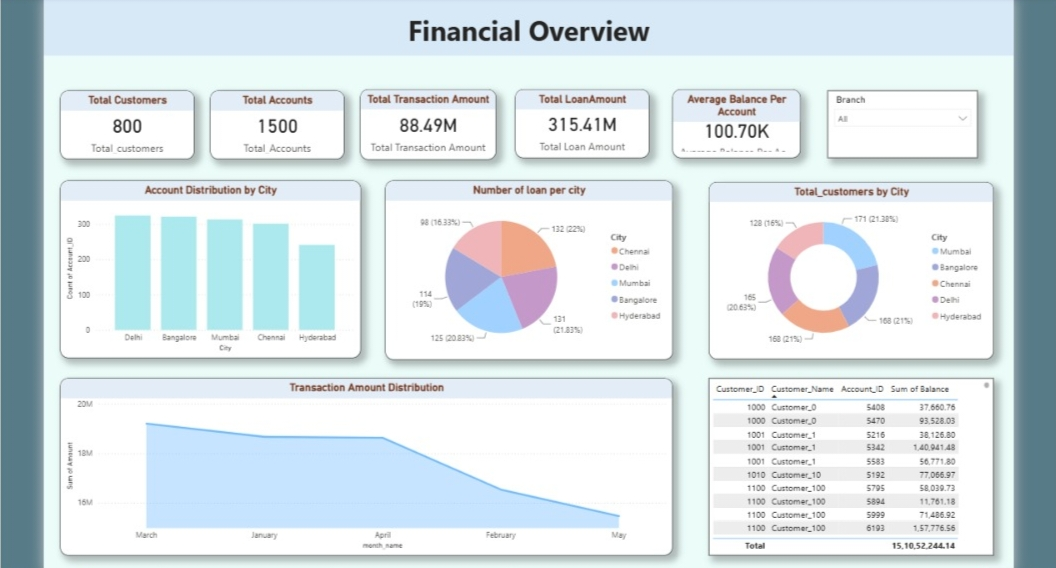

What the dashboard file says about the page in this screenshot:
{"tool":"powerbi","page":{"name":"Financial overview","canvas":[1517,900],"ordinal":0},"visuals":[{"type":"card","title":"Total Customers","fields":{"Values":["Basic Measure.Total_customers"]},"box":[25,147.5,210,107.5],"z":0},{"type":"card","title":"Total Transaction Amount","fields":{"Values":["Basic Measure.Total Transaction Amount"]},"box":[495,145,212.5,110],"z":1000},{"type":"card","title":"Average Balance Per Account","fields":{"Values":["Balance & Account Measure.Avarage Balance Per Account"]},"box":[982.5,145,200,107.5],"z":2000},{"type":"card","title":"Total Accounts","fields":{"Values":["Basic Measure.Total_Accounts"]},"box":[260,147.5,210,107.5],"z":3000},{"type":"card","title":"Total LoanAmount","fields":{"Values":["Loan Analysis.Total Loan Amount"]},"box":[737.5,145,210,107.5],"z":4000},{"type":"clusteredColumnChart","title":" Account Distribution by City","fields":{"Category":["Branches.City"],"Y":["CountNonNull(Accounts.Account_ID)"]},"box":[25,287.5,470,277.5],"z":5000},{"type":"pieChart","title":"Number of loan per city","fields":{"Category":["Branches.City"],"Y":["CountNonNull(Loans.Loan_ID)"]},"box":[532.5,287.5,450,280],"z":6000},{"type":"stackedAreaChart","title":"Transaction Amount Distribution","fields":{"Y":["Sum(Transactions.Amount)"],"Category":["Transactions.month_name"]},"box":[25,595,957.5,277.5],"z":7000},{"type":"donutChart","fields":{"Category":["Branches.City"],"Y":["Basic Measure.Total_customers"]},"box":[1039.4,289.2,445.5,277.4],"z":8000},{"type":"tableEx","fields":{"Values":["Customers.Customer_ID","Customers.Customer_Name","Accounts.Account_ID","Sum(Accounts.Balance)"]},"box":[1040,595,445,277.5],"z":9000},{"type":"textbox","box":[0,0,1516.1,91.8],"z":10000},{"type":"slicer","fields":{"Values":["Branches.Branch"]},"box":[1224.8,147.1,234.6,105.4],"z":11000}]}

Visuals, with their boxes on the page's 1517x900 design canvas (x1, y1, x2, y2). These are canvas units, not pixel positions in the 1056x568 screenshot, which may show the page scaled, cropped or inside an application window:
"Total Customers" card: <region>25, 148, 235, 255</region>
"Total Transaction Amount" card: <region>495, 145, 708, 255</region>
"Average Balance Per Account" card: <region>982, 145, 1182, 252</region>
"Total Accounts" card: <region>260, 148, 470, 255</region>
"Total LoanAmount" card: <region>738, 145, 948, 252</region>
" Account Distribution by City" clusteredColumnChart: <region>25, 288, 495, 565</region>
"Number of loan per city" pieChart: <region>532, 288, 982, 568</region>
"Transaction Amount Distribution" stackedAreaChart: <region>25, 595, 982, 872</region>
donutChart - Branches.City x Basic Measure.Total_customers: <region>1039, 289, 1485, 567</region>
tableEx - Customers.Customer_ID x Customers.Customer_Name: <region>1040, 595, 1485, 872</region>
textbox: <region>0, 0, 1516, 92</region>
slicer - Branches.Branch: <region>1225, 147, 1459, 252</region>
